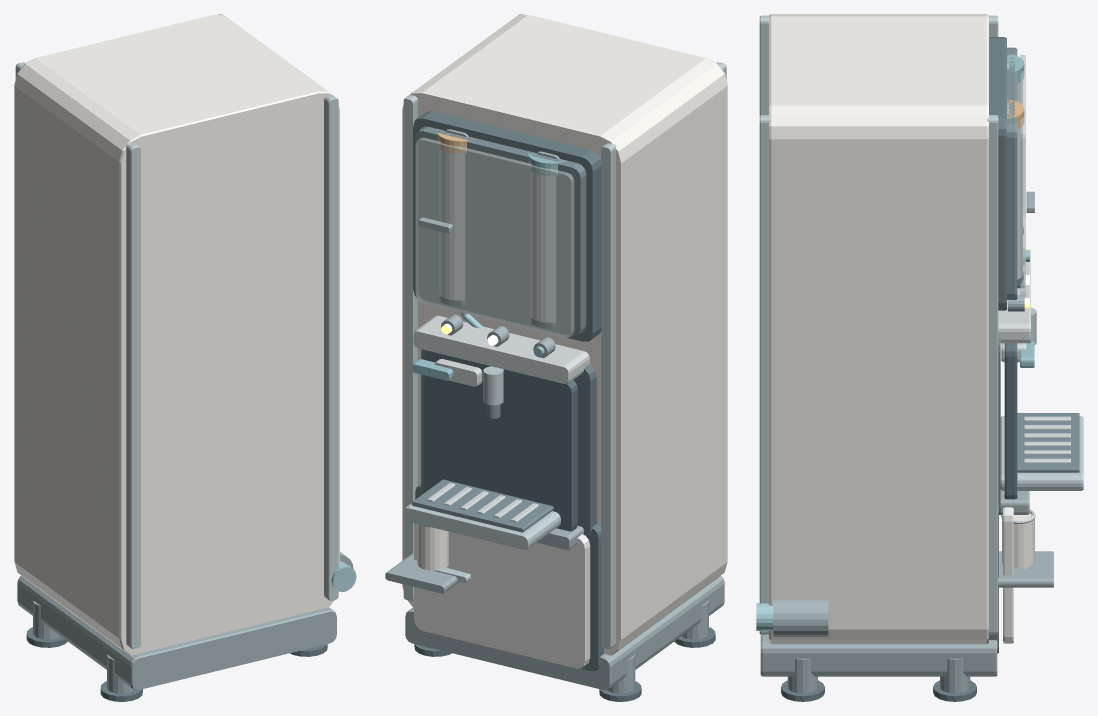
File: potable_water_dispenser.glb
The picture shows the model from 3 angles, left to right: view 1: azimuth 30°, elevation 25°; view 2: azimuth 150°, elevation 25°; view 3: azimuth 270°, elevation 25°; orthographic projection. The views are drawn at different scales.
Visible parts, largest first — view 1: Fixed__ivory, Fixed__aluminium, Fixed__steel, Fixed__rubber, Fixed__blue; view 2: Fixed__ivory, filter_service_hatch__clear, Fixed__graphite, Fixed__recess, service_access__shell, Fixed__aluminium, Fixed__silver, Fixed__rubber, Fixed__steel, Fixed__teal, dispense_paddle__teal; view 3: Fixed__ivory, Fixed__aluminium, Fixed__steel, Fixed__graphite, Fixed__rubber, Fixed__silver, Fixed__recess, service_access__shell, filter_service_hatch__clear.
Boxes of the visible parts, x1,y1,x2,y2 form: Fixed__ivory: (14, 15, 339, 655); Fixed__aluminium: (15, 14, 338, 649); Fixed__steel: (17, 552, 353, 693); Fixed__rubber: (26, 627, 327, 701); Fixed__blue: (331, 561, 356, 591); Fixed__ivory: (402, 15, 727, 655); filter_service_hatch__clear: (415, 137, 574, 337); Fixed__graphite: (411, 126, 586, 532); Fixed__recess: (424, 350, 577, 531); service_access__shell: (414, 523, 590, 668); Fixed__aluminium: (403, 14, 726, 649); Fixed__silver: (413, 149, 589, 527); Fixed__rubber: (413, 111, 715, 701); Fixed__steel: (385, 129, 724, 693); Fixed__teal: (528, 152, 566, 357); dispense_paddle__teal: (412, 359, 453, 380); Fixed__ivory: (769, 14, 1034, 644); Fixed__aluminium: (759, 15, 1083, 634); Fixed__steel: (760, 56, 1053, 693); Fixed__graphite: (1007, 47, 1079, 472); Fixed__rubber: (781, 37, 1023, 701); Fixed__silver: (998, 80, 1070, 523); Fixed__recess: (1004, 343, 1017, 499); service_access__shell: (1003, 507, 1013, 643); filter_service_hatch__clear: (1020, 55, 1025, 296).
Bounding box in the file's own units: 0.664 × 1.53 × 0.774.
